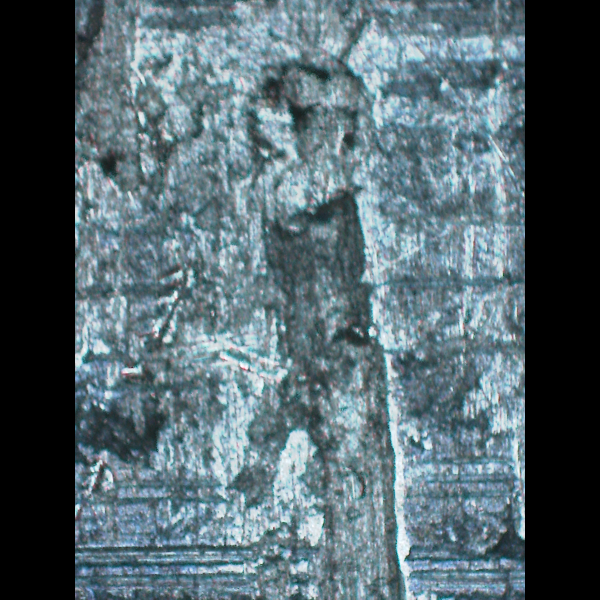d: (219, 48, 426, 600)
